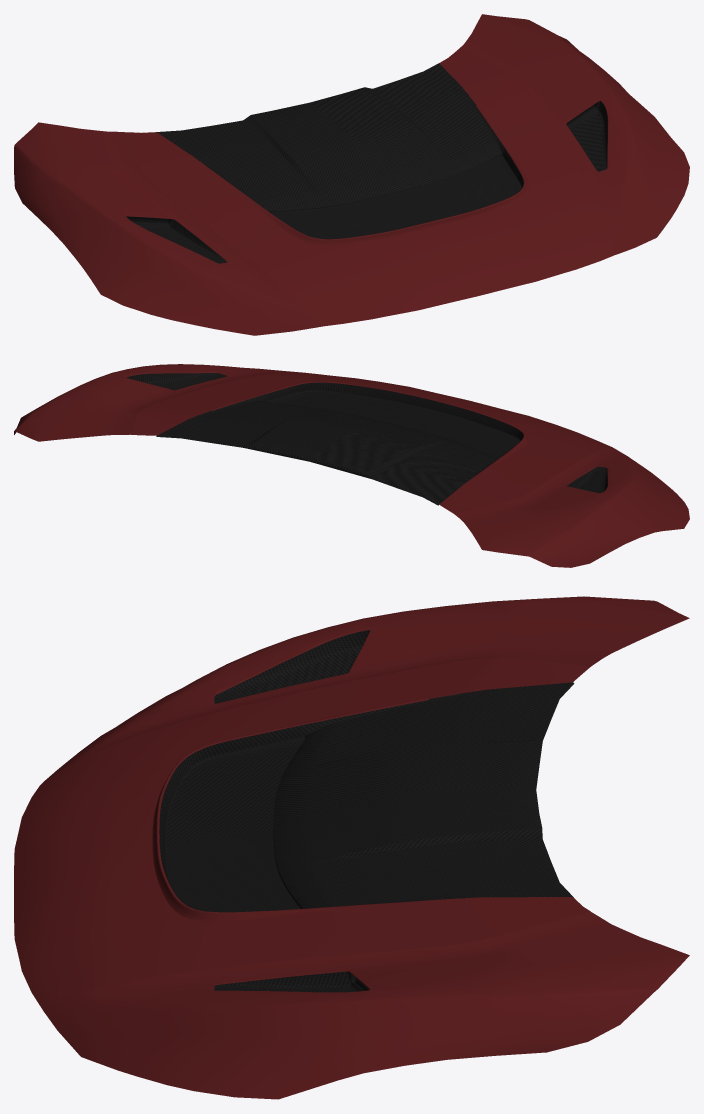
Rendered from Honda_Civic_Hood_02.glb.
The picture shows the model from 3 angles, top to bottom: view 1: azimuth 30°, elevation 25°; view 2: azimuth 150°, elevation 25°; view 3: azimuth 270°, elevation 25°; orthographic projection. The views are drawn at different scales.
Parts seen in each view (by area): view 1: Mesh_Honda_Civic_Hood_02; view 2: Mesh_Honda_Civic_Hood_02; view 3: Mesh_Honda_Civic_Hood_02.
Part boxes in pixels (x1,y1,x2,y2): Mesh_Honda_Civic_Hood_02: (14,14,689,335); Mesh_Honda_Civic_Hood_02: (14,364,689,567); Mesh_Honda_Civic_Hood_02: (14,596,689,1099).
Size of the model in its own units: 85.36 by 10.83 by 55.01.
2 materials, 1 textured.
